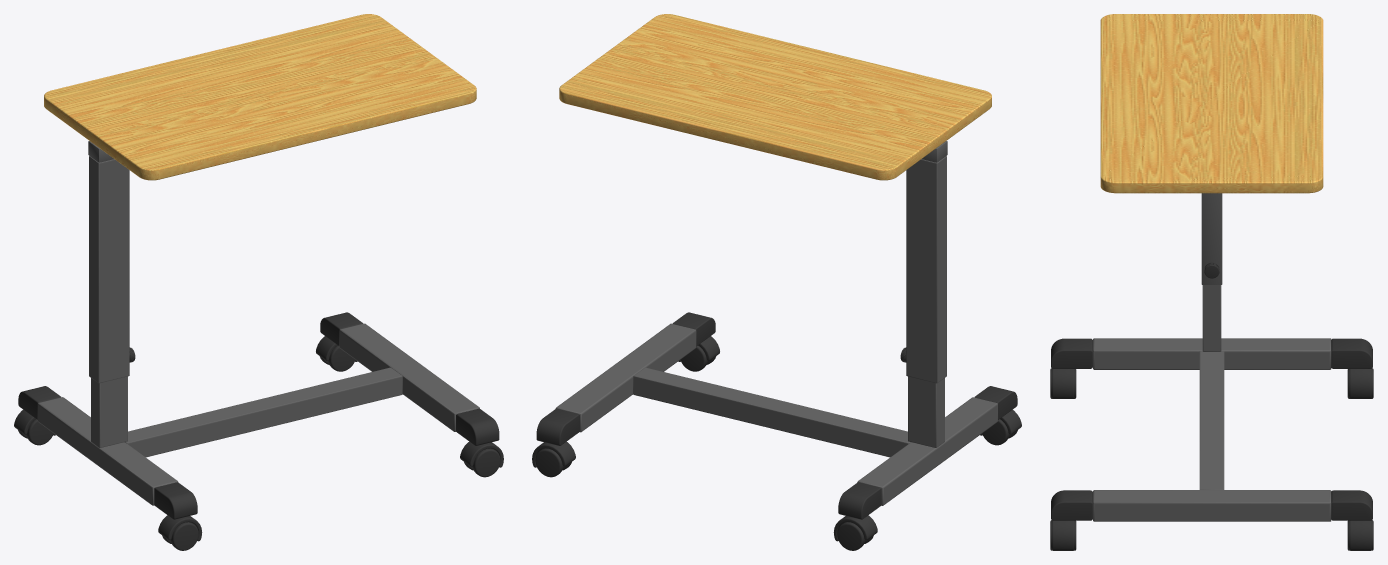
File: Table.FBX
3 renders of one model, left to right at view 1: azimuth 30°, elevation 25°; view 2: azimuth 150°, elevation 25°; view 3: azimuth 270°, elevation 25°, orthographic. The views are drawn at different scales.
Parts seen in each view (by area): view 1: cadnav.com; view 2: cadnav.com; view 3: cadnav.com.
Part boxes in pixels (x1,y1,x2,y2): cadnav.com: (14,14,503,550); cadnav.com: (532,14,1021,550); cadnav.com: (1050,14,1373,550).
Size of the model in its own units: 255 by 264 by 205.
